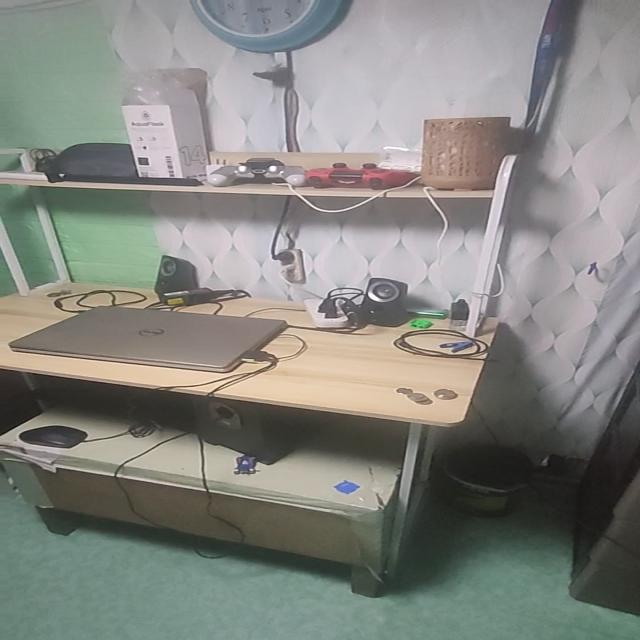table: (0, 277, 514, 600)
